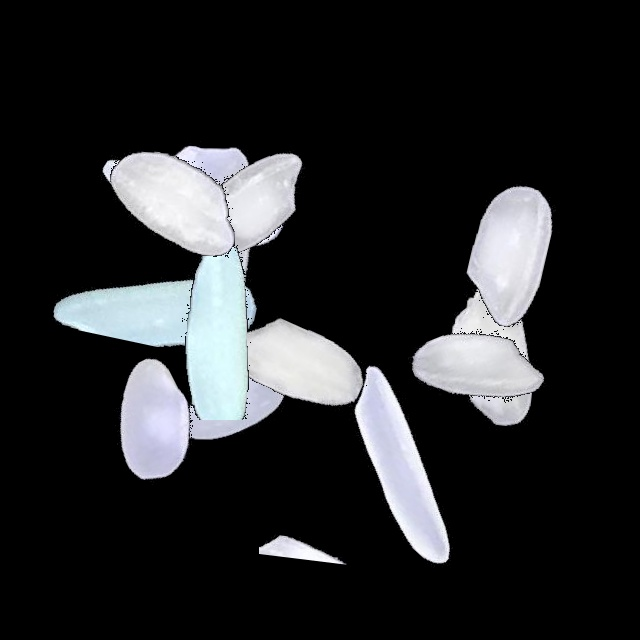Broken: (54, 247, 304, 420), (40, 189, 290, 347), (259, 382, 364, 632)
Full: (69, 65, 319, 315), (108, 275, 358, 525), (366, 227, 616, 477), (280, 343, 530, 593), (382, 128, 632, 378), (65, 79, 315, 329), (349, 242, 599, 492), (100, 157, 350, 407), (170, 235, 420, 485), (128, 80, 378, 330), (26, 293, 276, 543), (46, 76, 296, 326)
